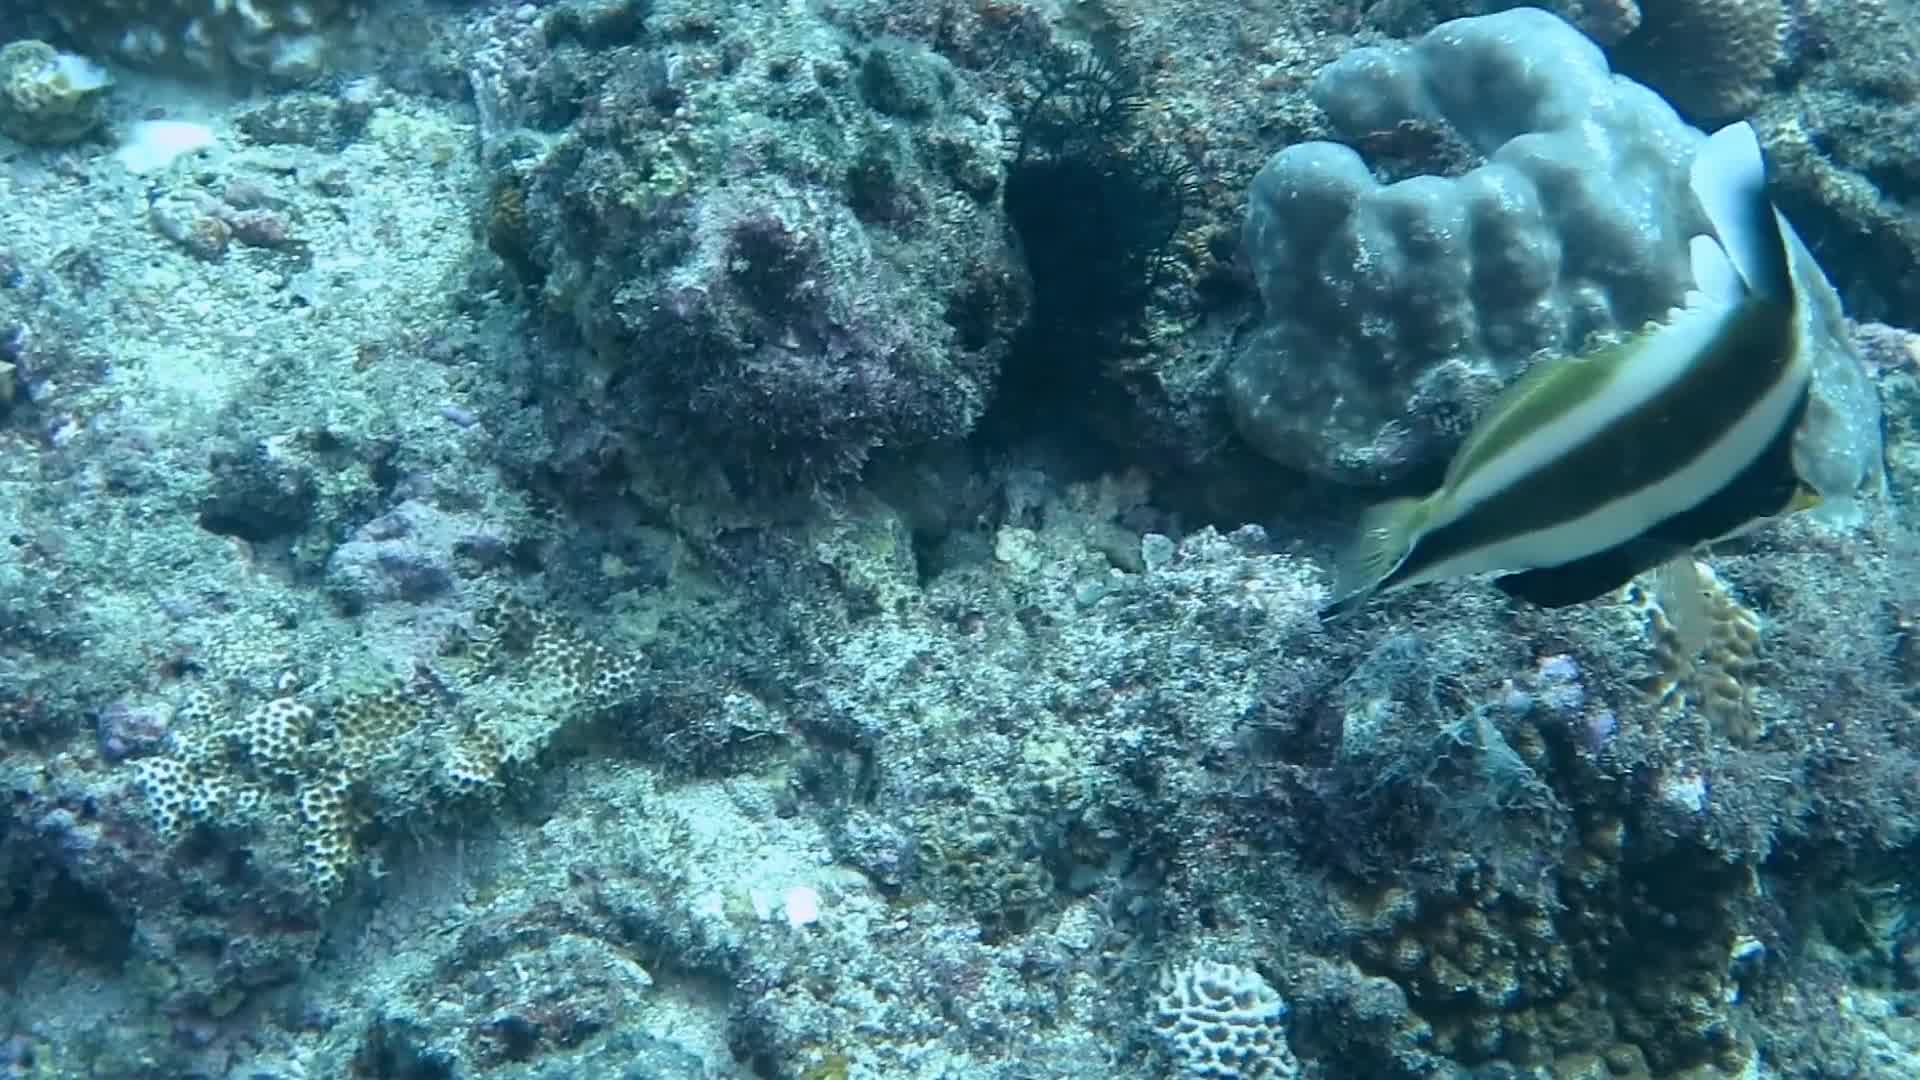Heniochus chrysostomus: (1261, 100, 1905, 690)
